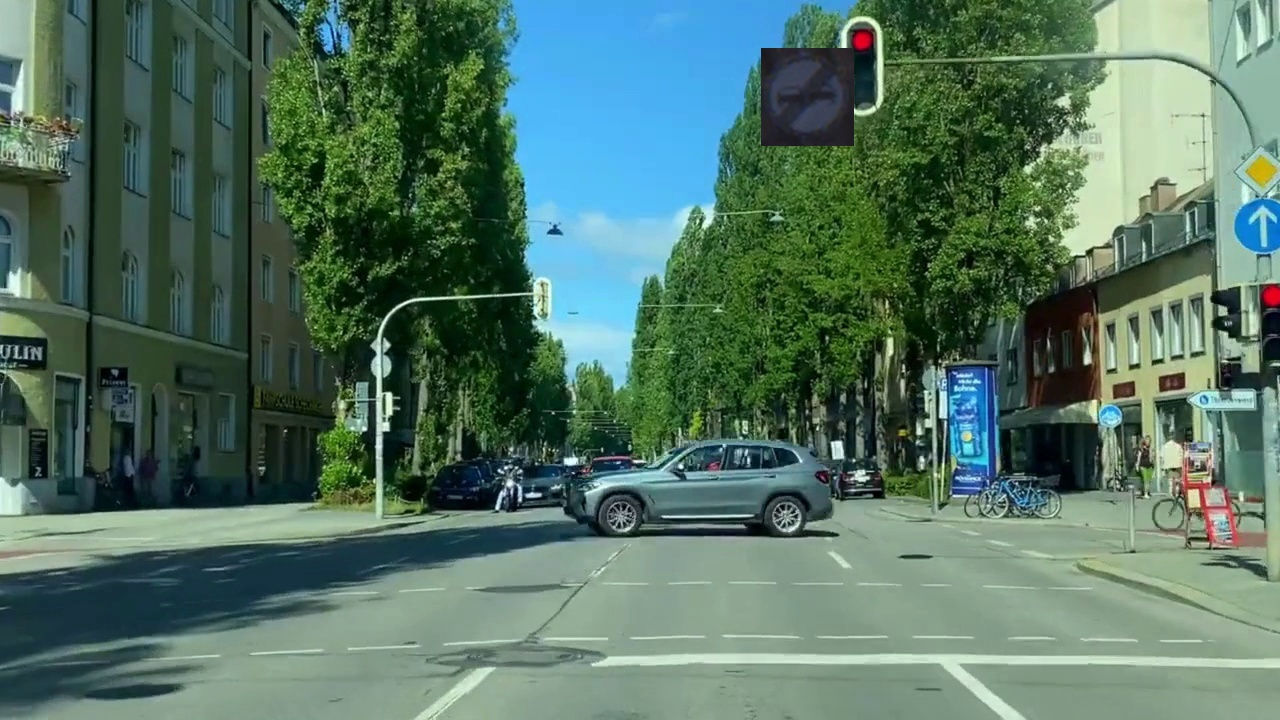End no pass: (761, 48, 854, 146)
